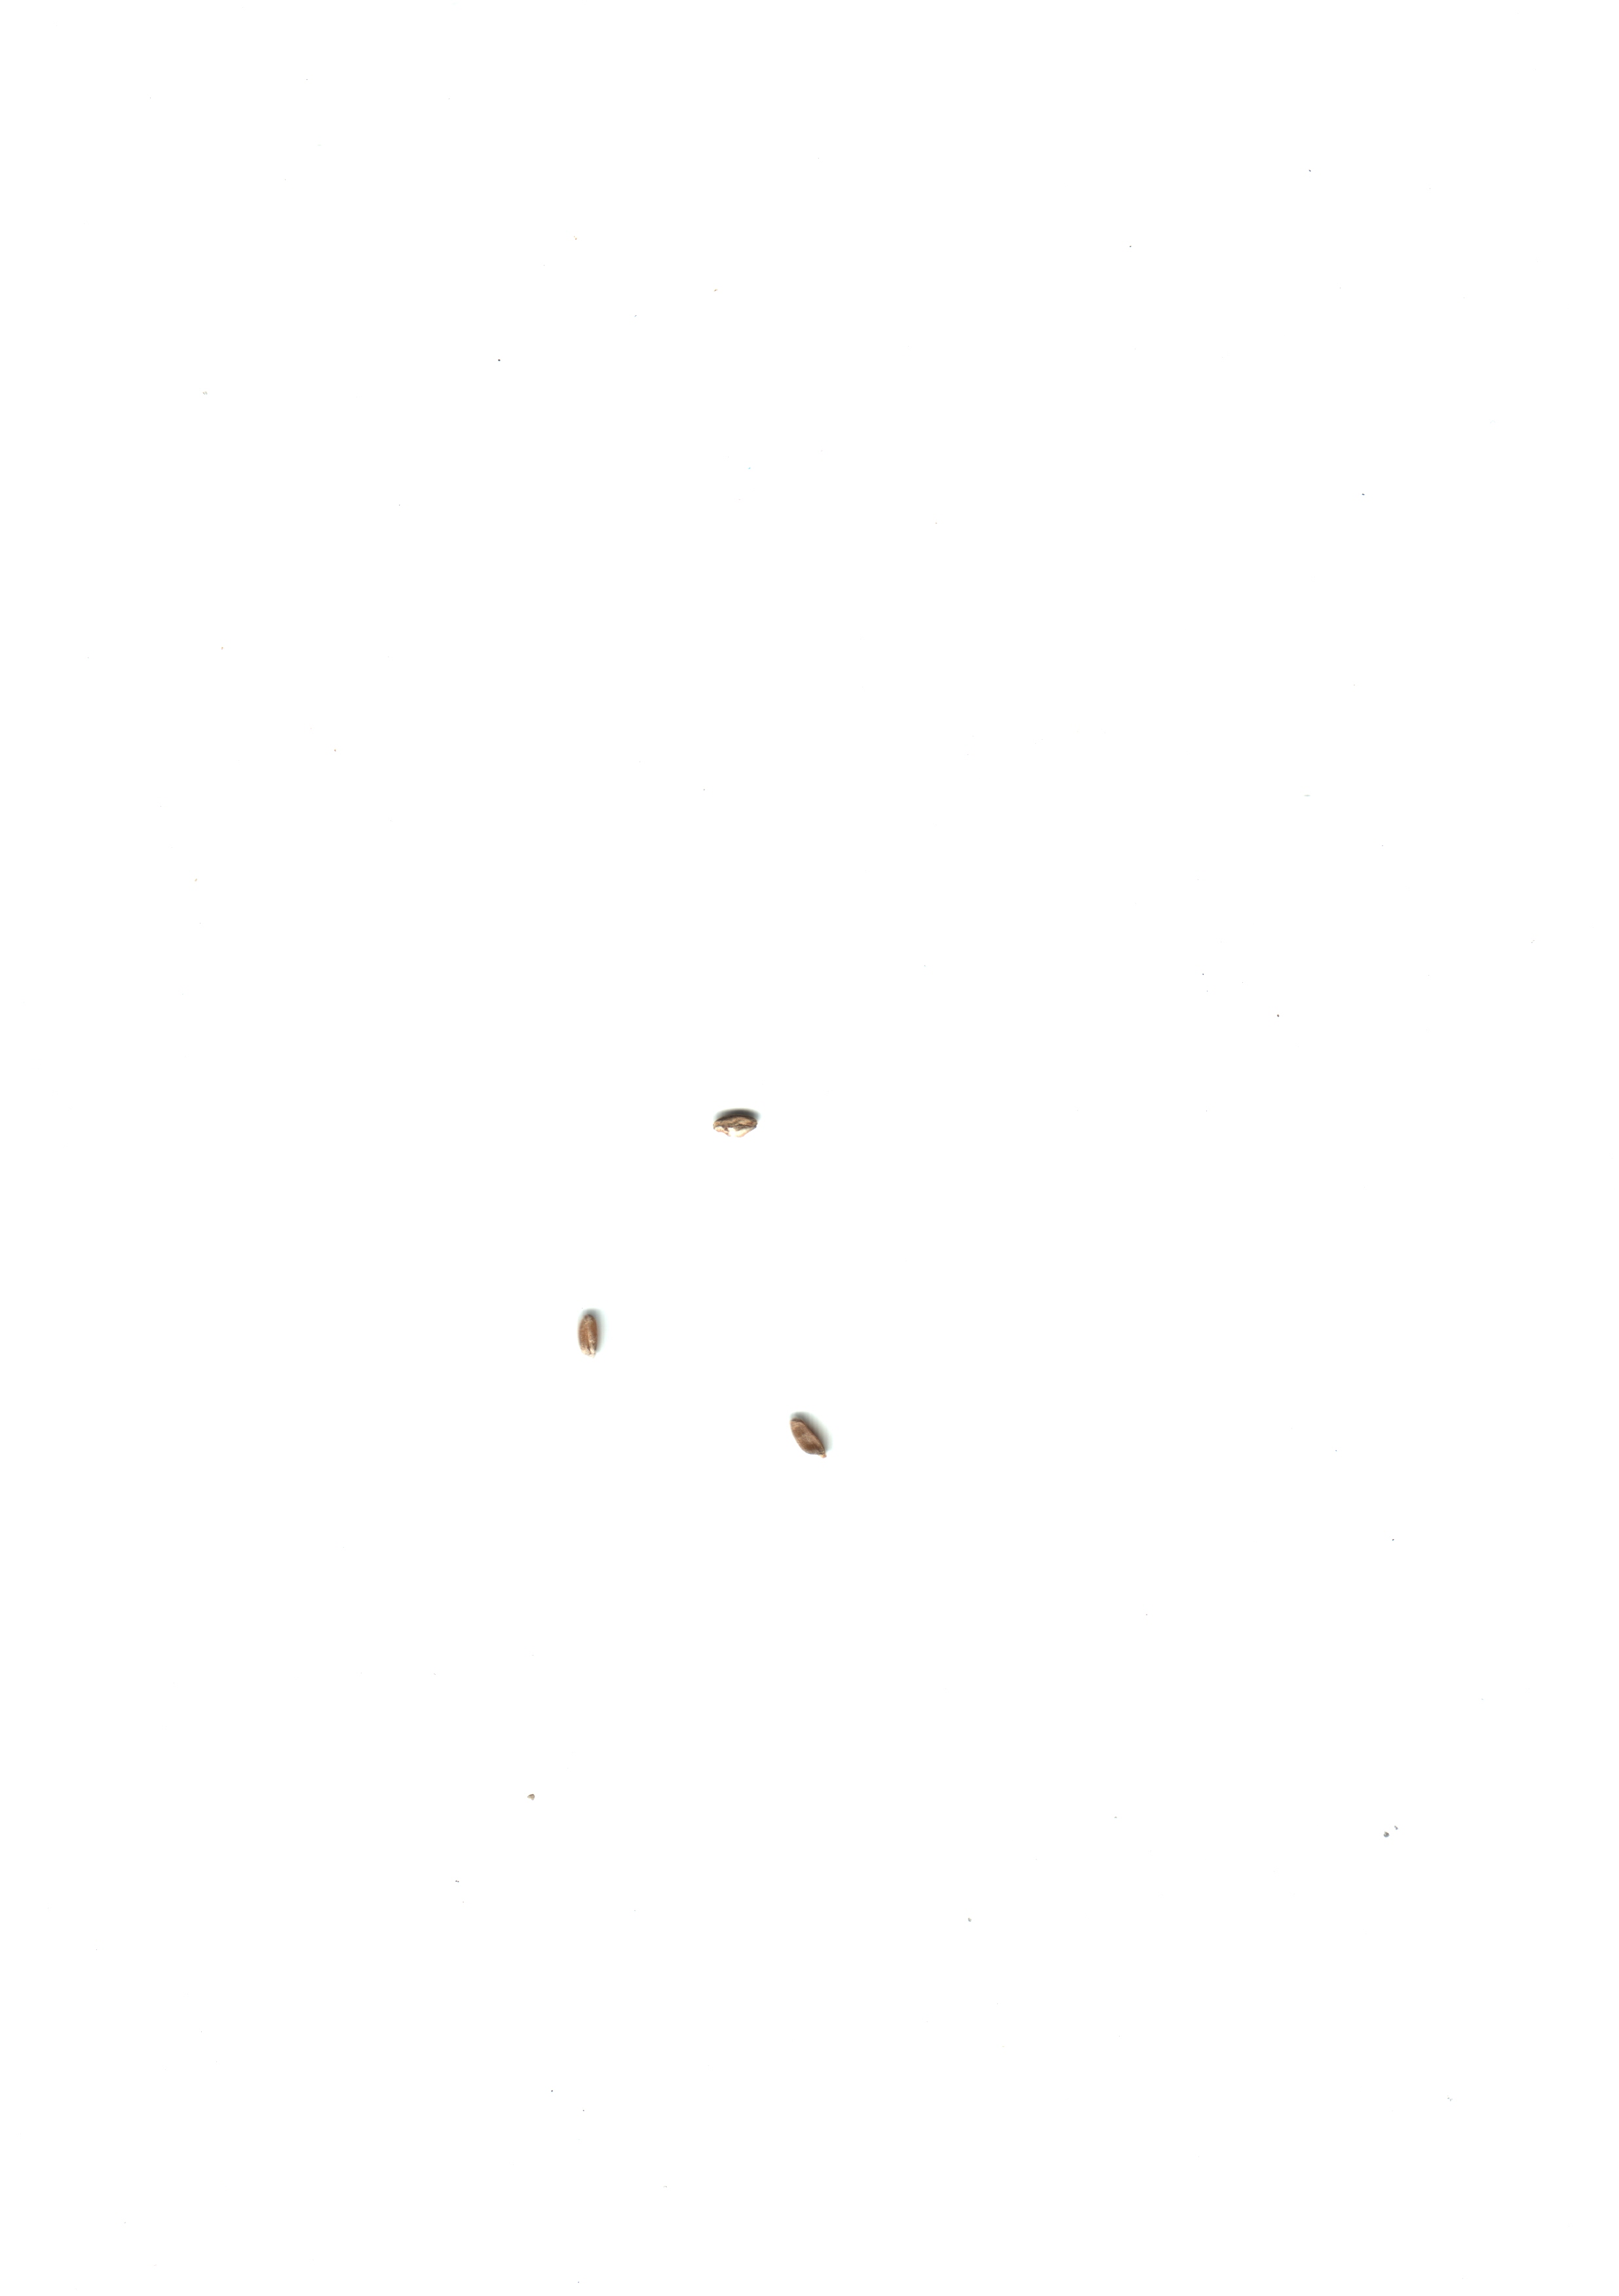grains_2_5mm: (769, 1388, 852, 1478), (554, 1285, 634, 1374), (699, 1078, 780, 1167)
